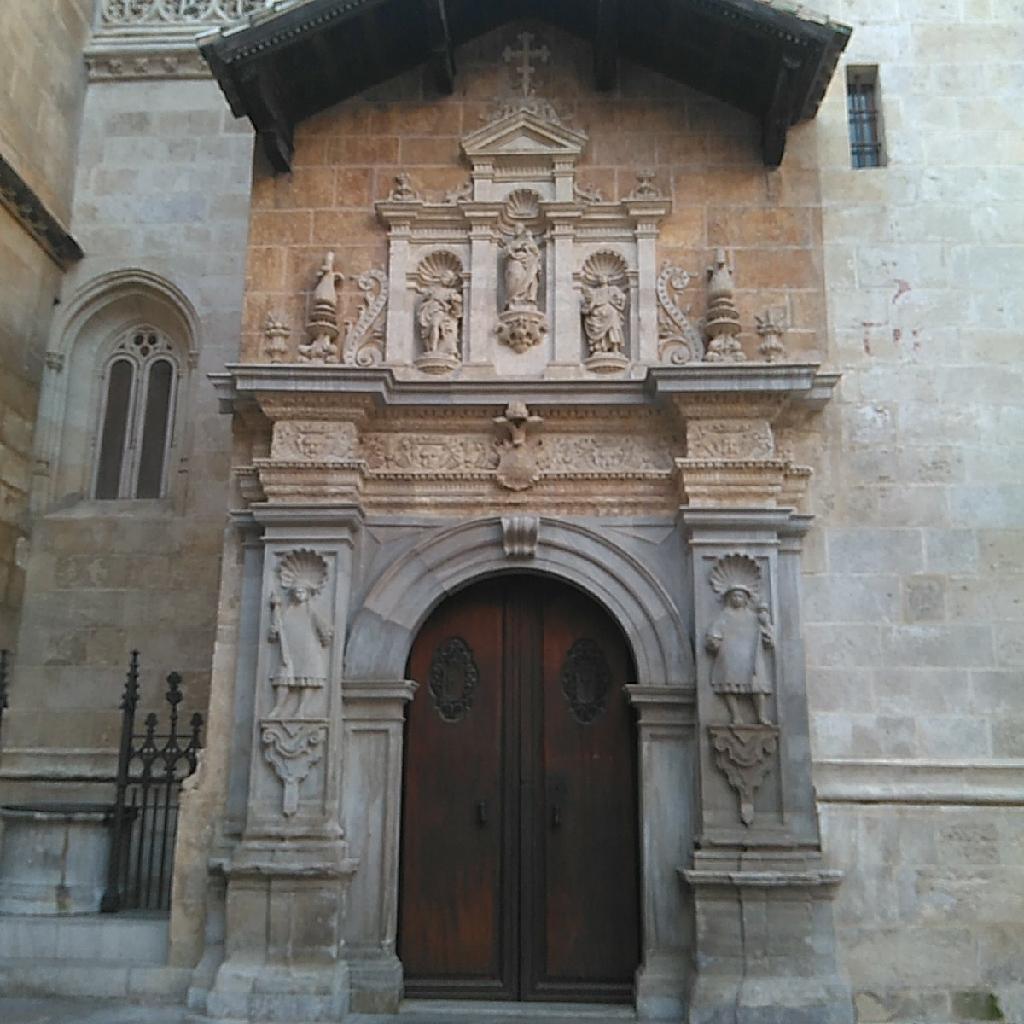arco-apuntado: (52, 268, 199, 374)
arco-medio-punto: (397, 560, 653, 731)
fronton: (453, 108, 585, 160)
